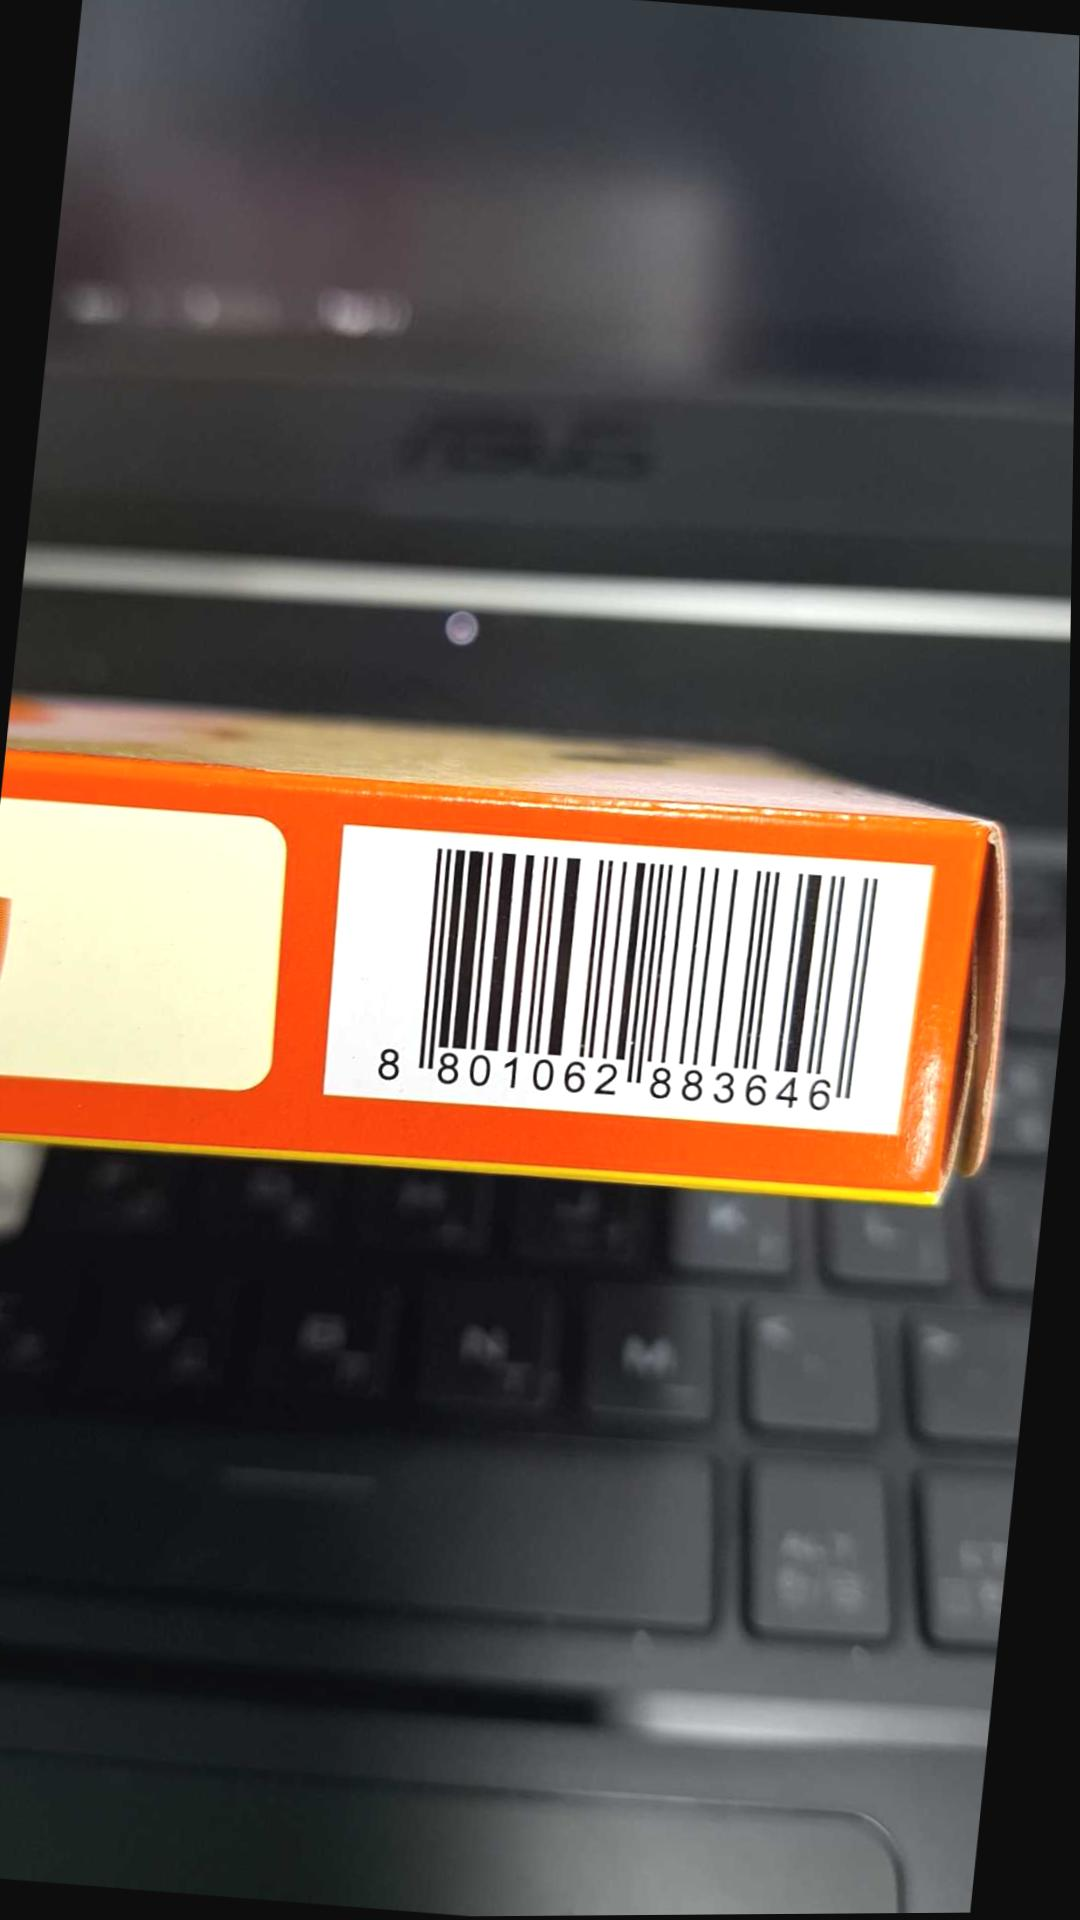crunchy-1500-2024-12-29: (348, 833, 909, 1133)
